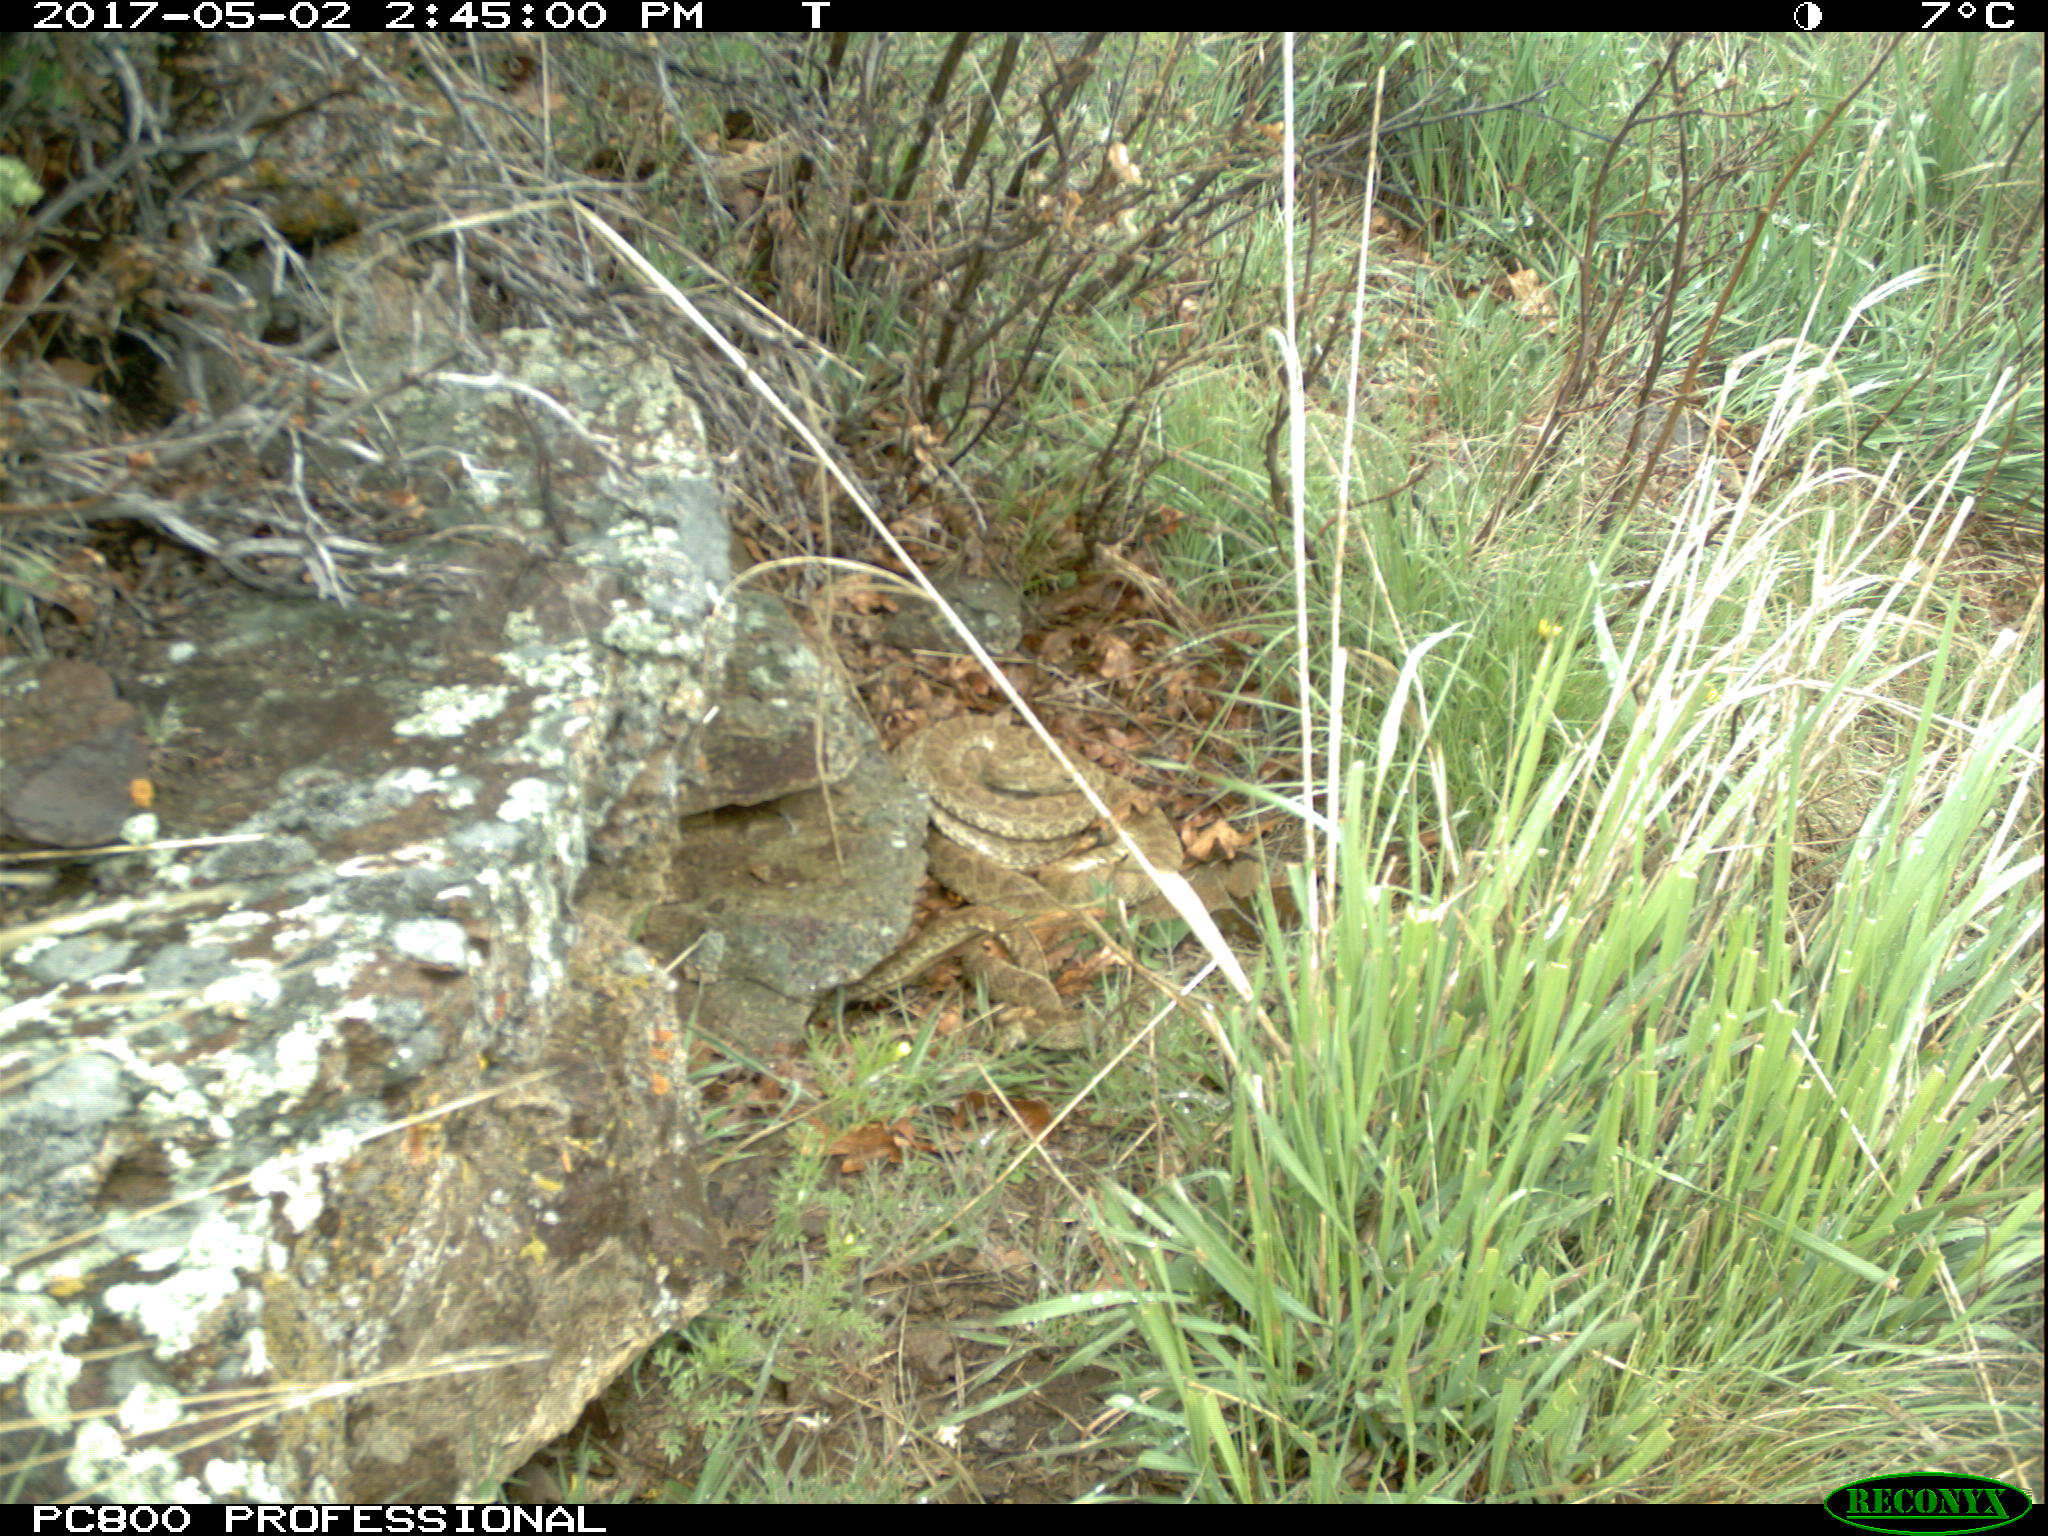snake: (890, 720, 1205, 975)
